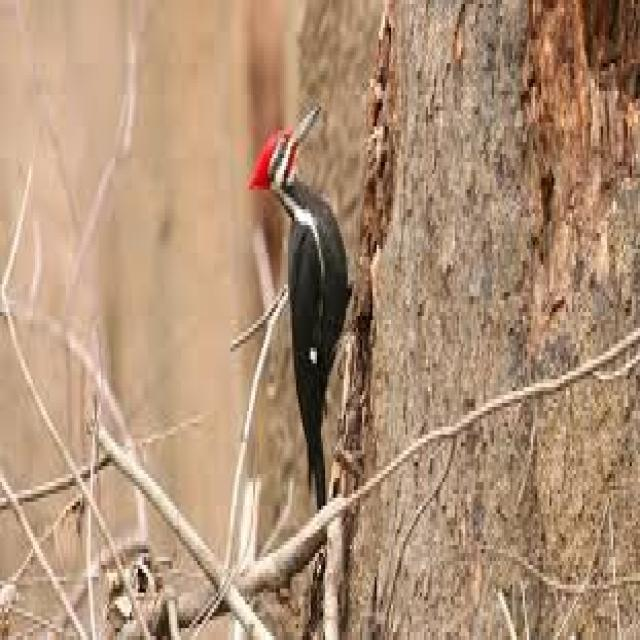Woodpecker: (248, 98, 358, 516)
